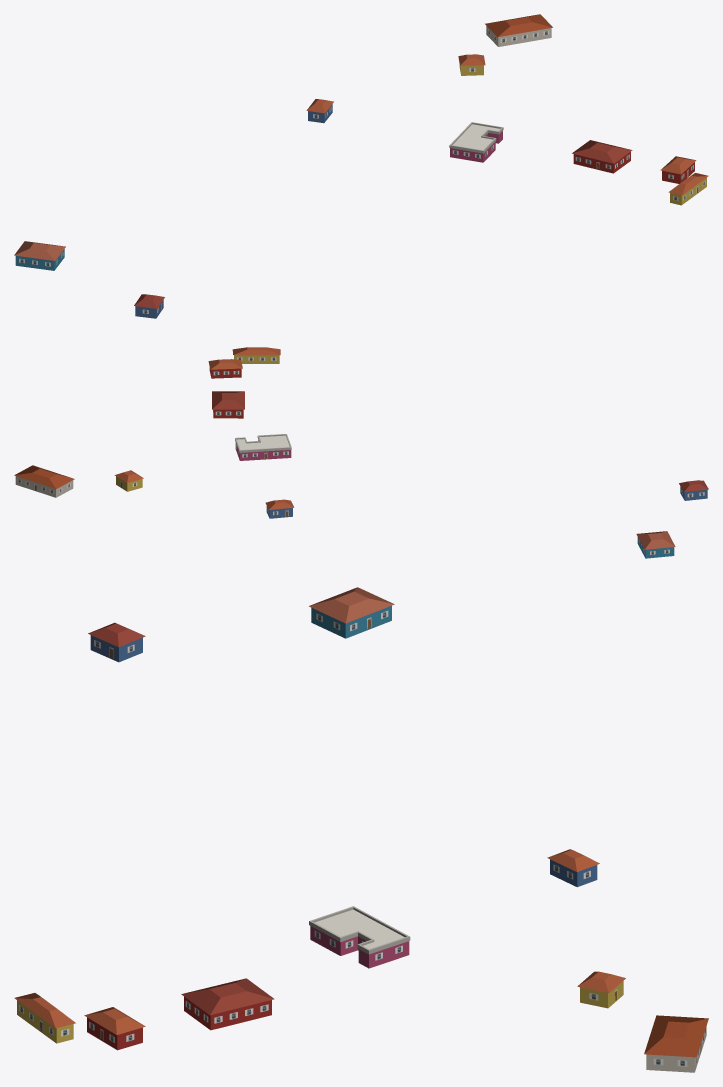
The model's file is msb_oranjestad_m11_6.glb.
3 views of the same model, one above another, from view 1: azimuth 30°, elevation 25°; view 2: azimuth 150°, elevation 25°; view 3: azimuth 270°, elevation 25° (orthographic). The views are drawn at different scales.
Parts seen in each view (by area): view 1: msb_oranjestad_m11_6_lod0; view 2: msb_oranjestad_m11_6_lod0; view 3: msb_oranjestad_m11_6_lod0.
Part boxes in pixels (x1,y1,x2,y2): msb_oranjestad_m11_6_lod0: (14, 14, 708, 318); msb_oranjestad_m11_6_lod0: (14, 347, 708, 558); msb_oranjestad_m11_6_lod0: (14, 587, 708, 1072).
Size of what is drawn, in the model's own units: 220 by 7.97 by 135.
Materials: 3 (1 with a texture image).
